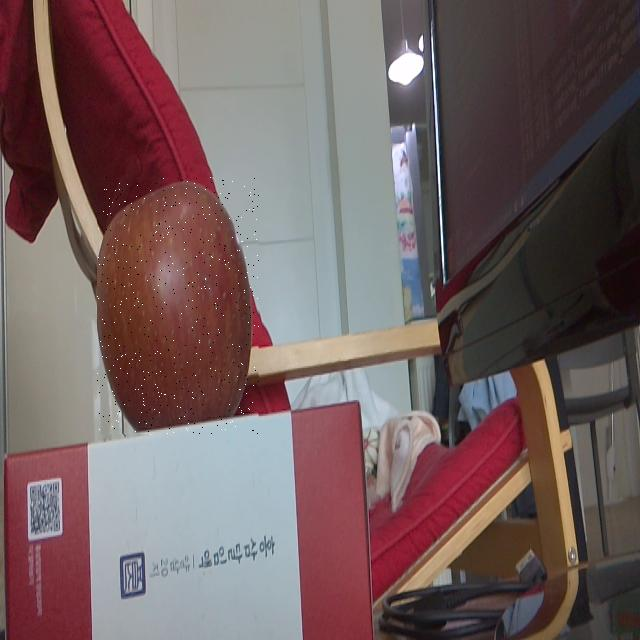apple: (98, 178, 260, 436)
